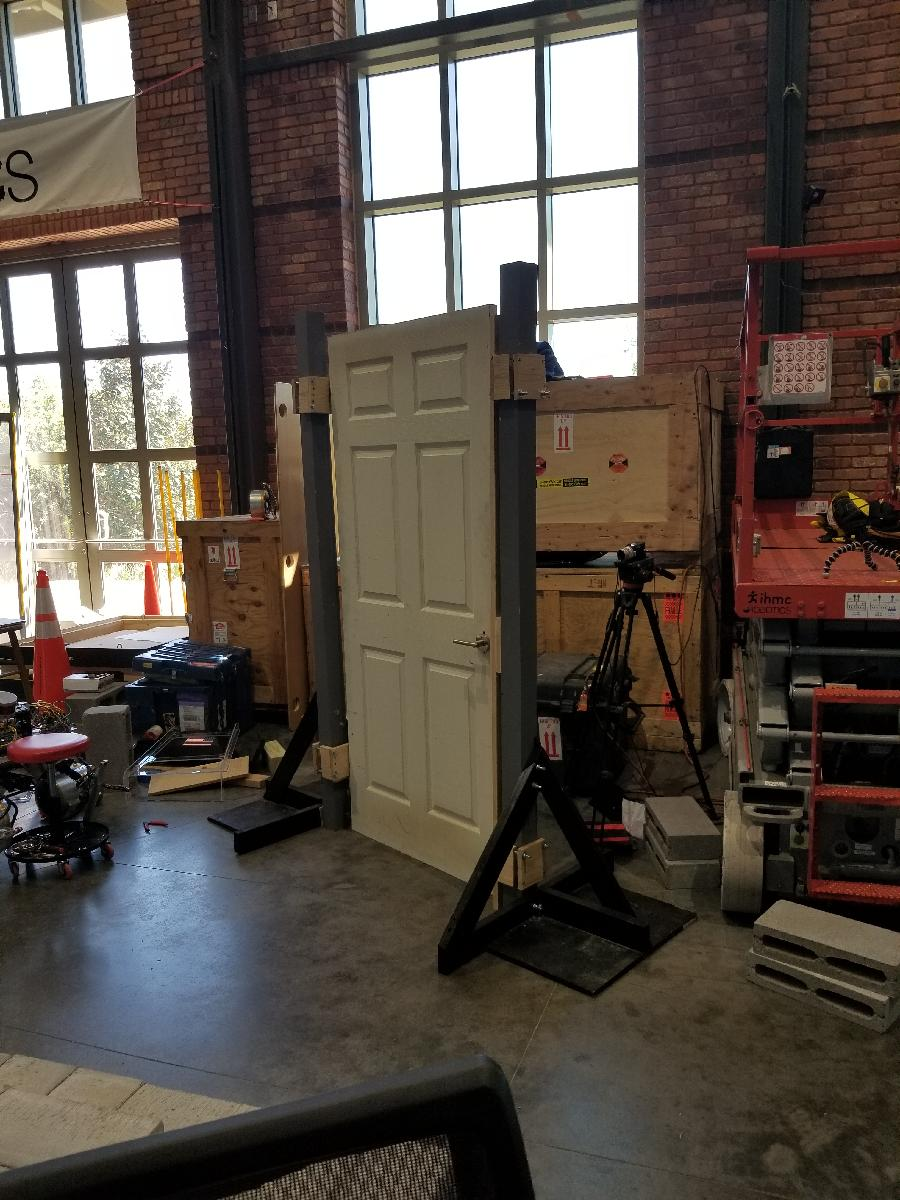door: (324, 302, 499, 896)
doorHandle: (449, 631, 494, 658)
